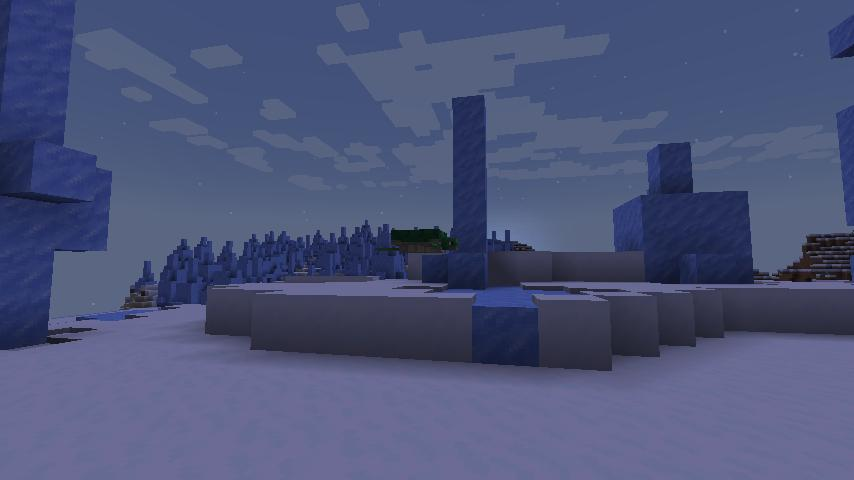turtle: (389, 227, 459, 257)
